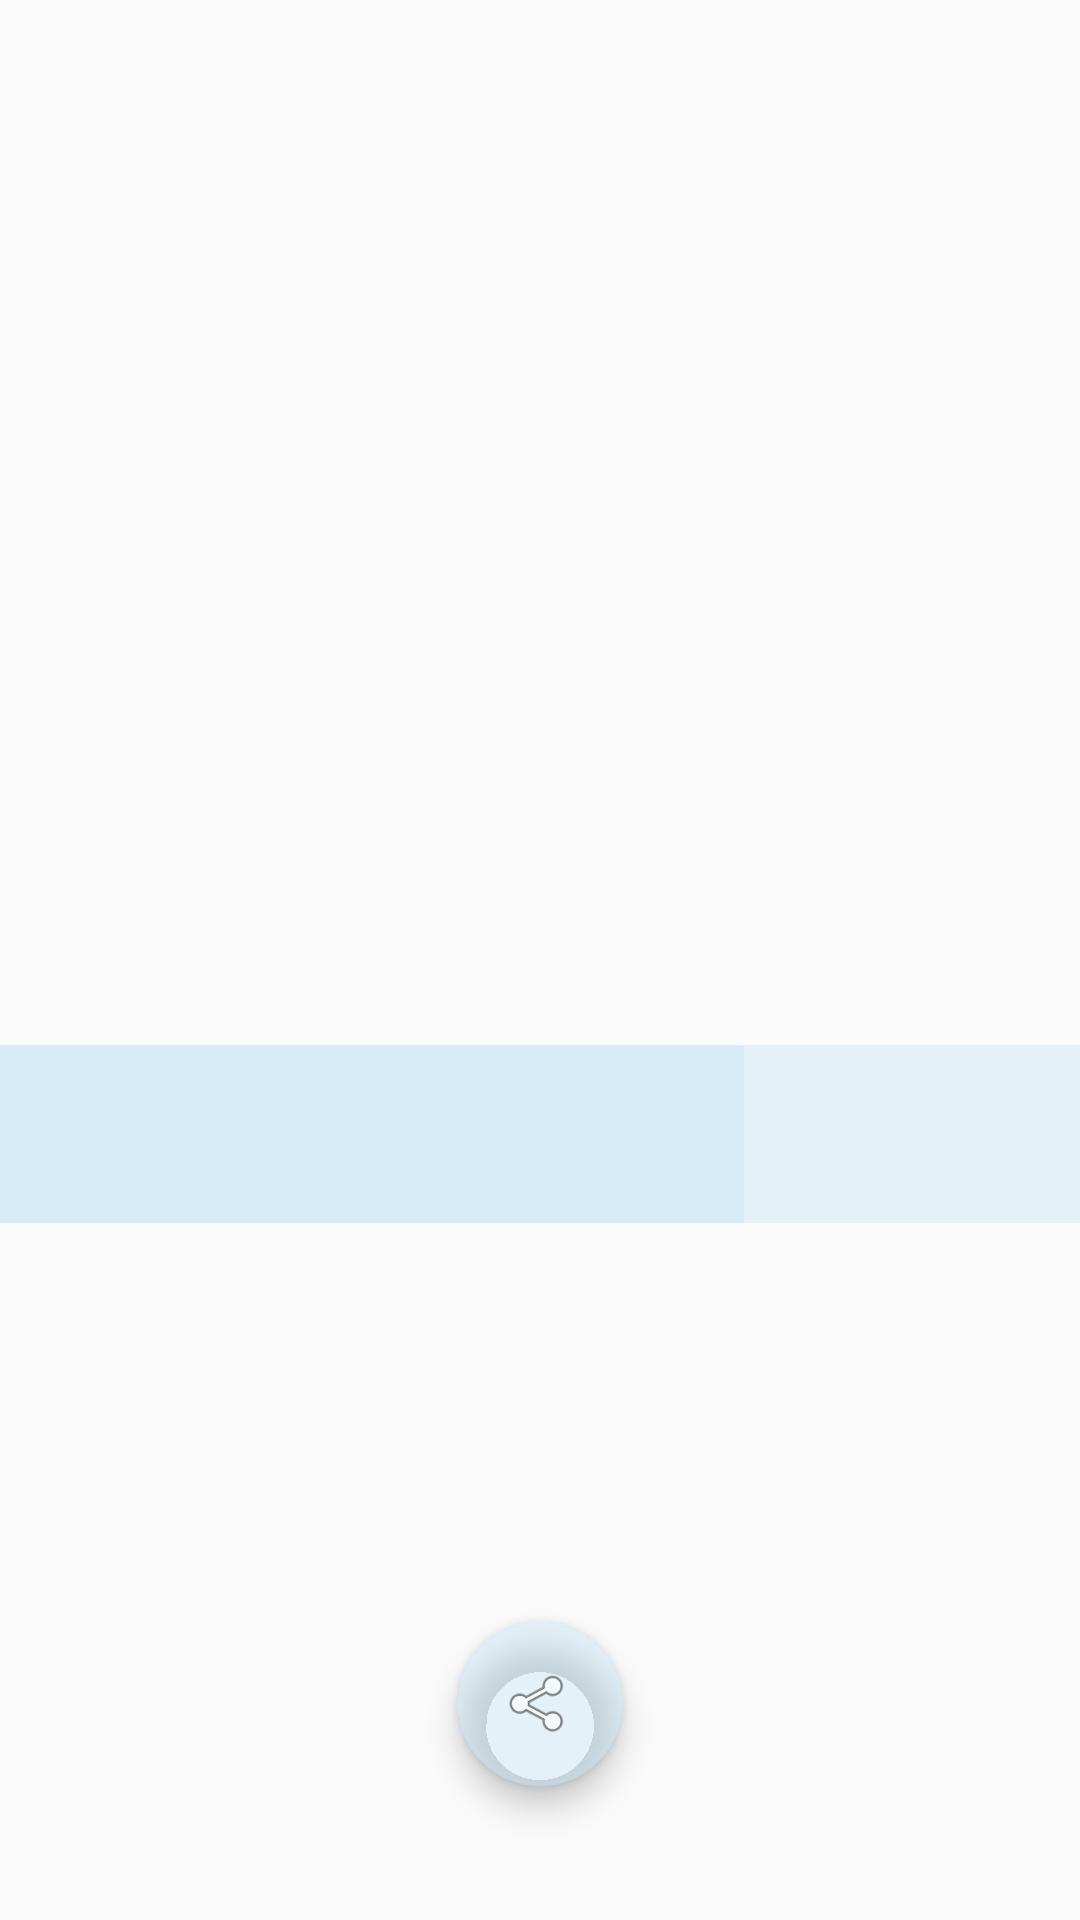

Screen size 1080x1920. Icon name, then its box in pixels as (x1, y1, x2, y2):
share: (456, 1622, 624, 1788)
